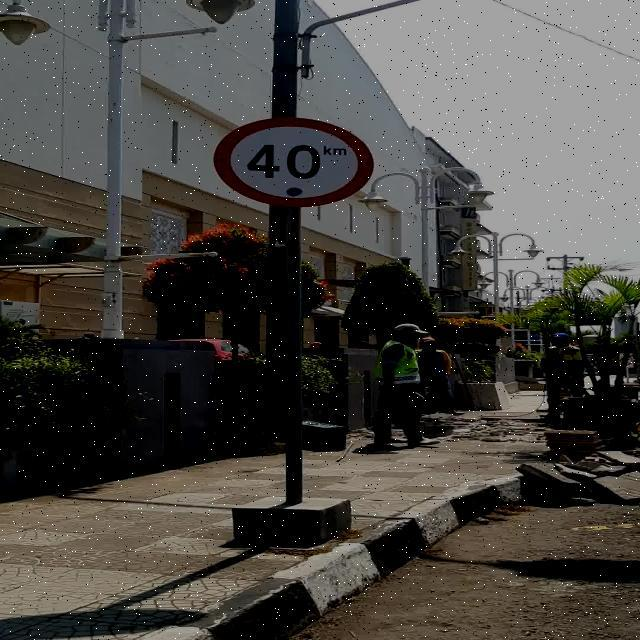Kecepatan Maks. 40 km: (213, 116, 374, 208)
